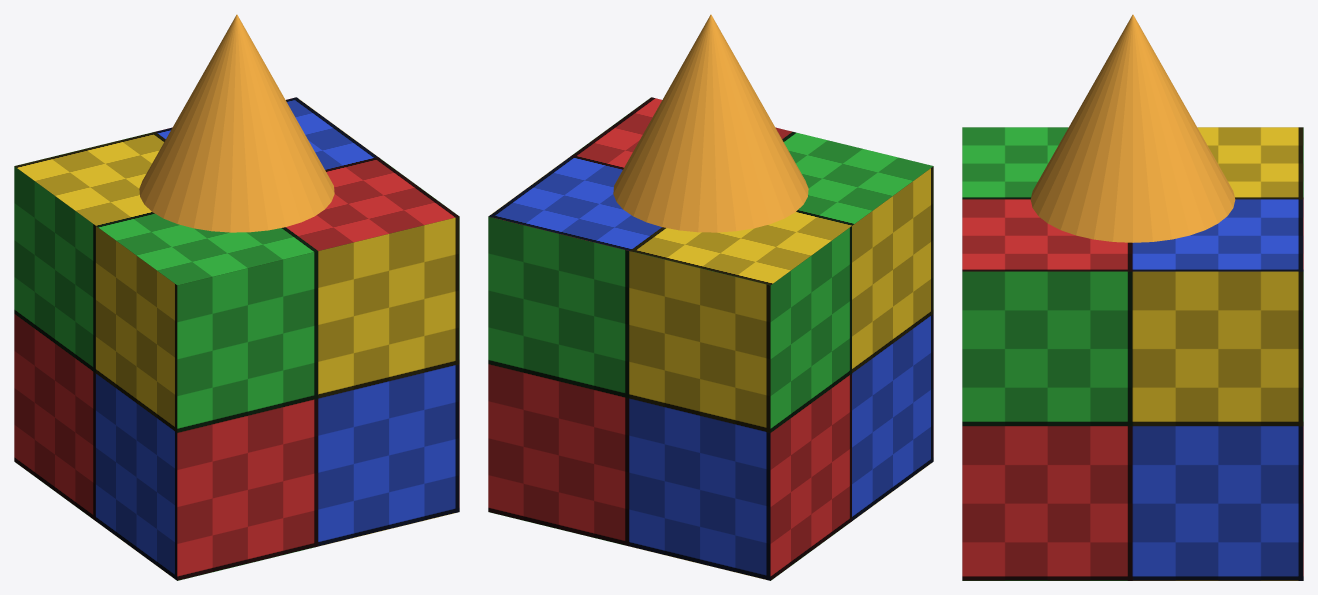
File: crate.fbx
3 renders of one model, left to right at view 1: azimuth 30°, elevation 25°; view 2: azimuth 150°, elevation 25°; view 3: azimuth 270°, elevation 25°, orthographic. The views are drawn at different scales.
Parts seen in each view (by area): view 1: crate, marker; view 2: crate, marker; view 3: crate, marker.
Boxes of the visible parts, <box> form: crate: <box>14,97,459,580</box>; marker: <box>139,14,334,232</box>; crate: <box>488,97,933,580</box>; marker: <box>613,14,808,232</box>; crate: <box>962,127,1303,580</box>; marker: <box>1030,14,1235,242</box>.
Size of the model in its own units: 200 by 320 by 200.
Materials: 2 (1 with a texture image).
